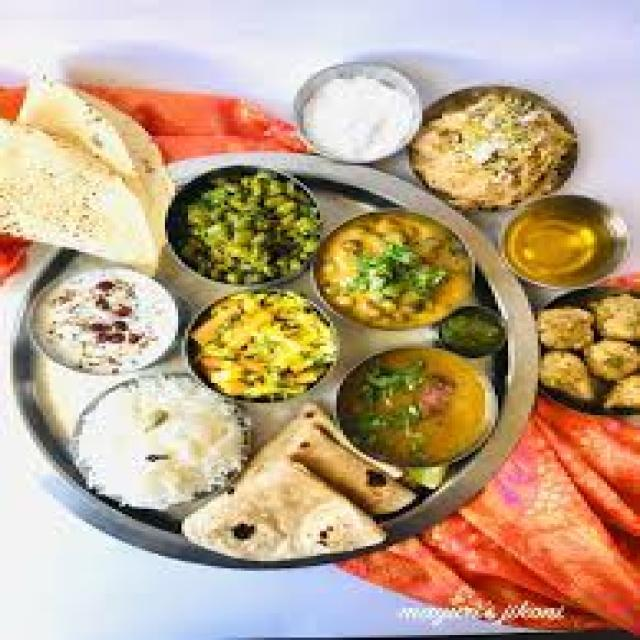curd: (287, 70, 424, 166)
dal: (324, 343, 502, 471)
papad: (0, 110, 167, 259)
pickle: (0, 220, 40, 298)
rice: (58, 379, 250, 514), (409, 94, 569, 209)
roti: (189, 414, 413, 572)
sweet: (23, 268, 186, 375)
